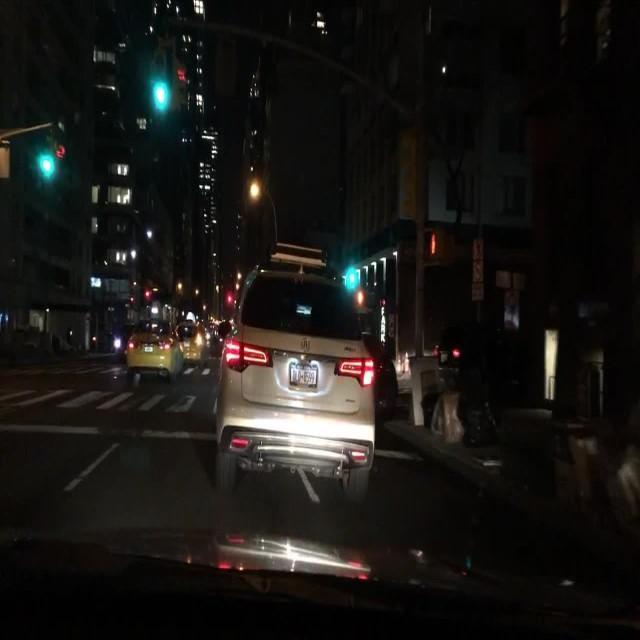normal: (206, 220, 389, 516), (113, 261, 207, 380)
